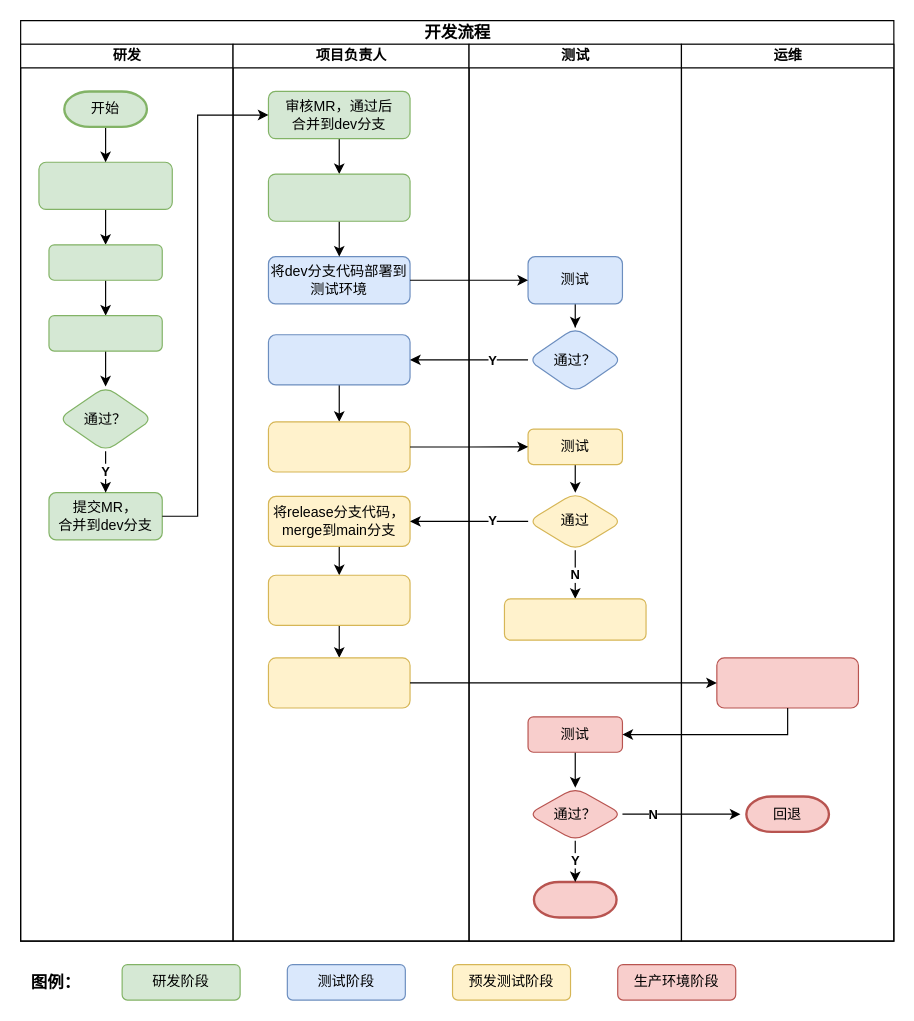
This 914x1021 diagram has some shape labels left out. Each missing label, with the centre of its shape:
"从dev分支拉出feature或bugfix分支" goes at point (105, 185).
"回退，修改bug后 重新测试" goes at point (574, 619).
"在dev分支修订CHANGELOG 文件" goes at point (338, 197).
"完成" goes at point (574, 899).
"将release分支代码，部署到预发环境" goes at point (338, 446).
"开发" goes at point (105, 262).
"本地自测" goes at point (105, 332).
"根据dev分支，创建release分支" goes at point (338, 359).
"根据main分支，打tag" goes at point (338, 599).
"根据tag，打正式发布包，创建Release" goes at point (338, 682).
"部署到生产环境" goes at point (787, 682).
